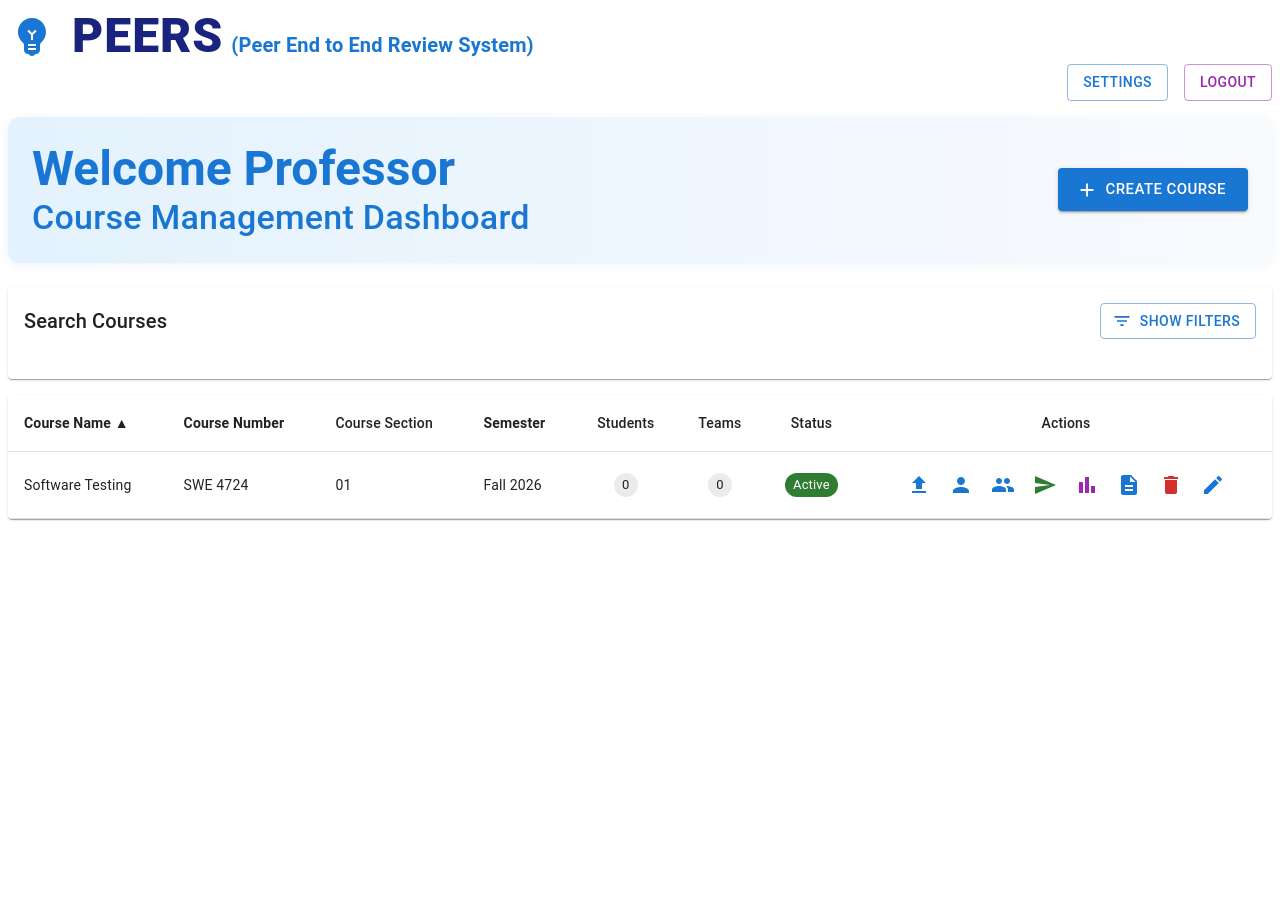
CourseManagement › cancels deletion without making a request, then deletes after confirmation
The image size is (1280, 900).
Click the button titled "Delete Course": {"x": 1171, "y": 485} [1154, 468, 1188, 502]
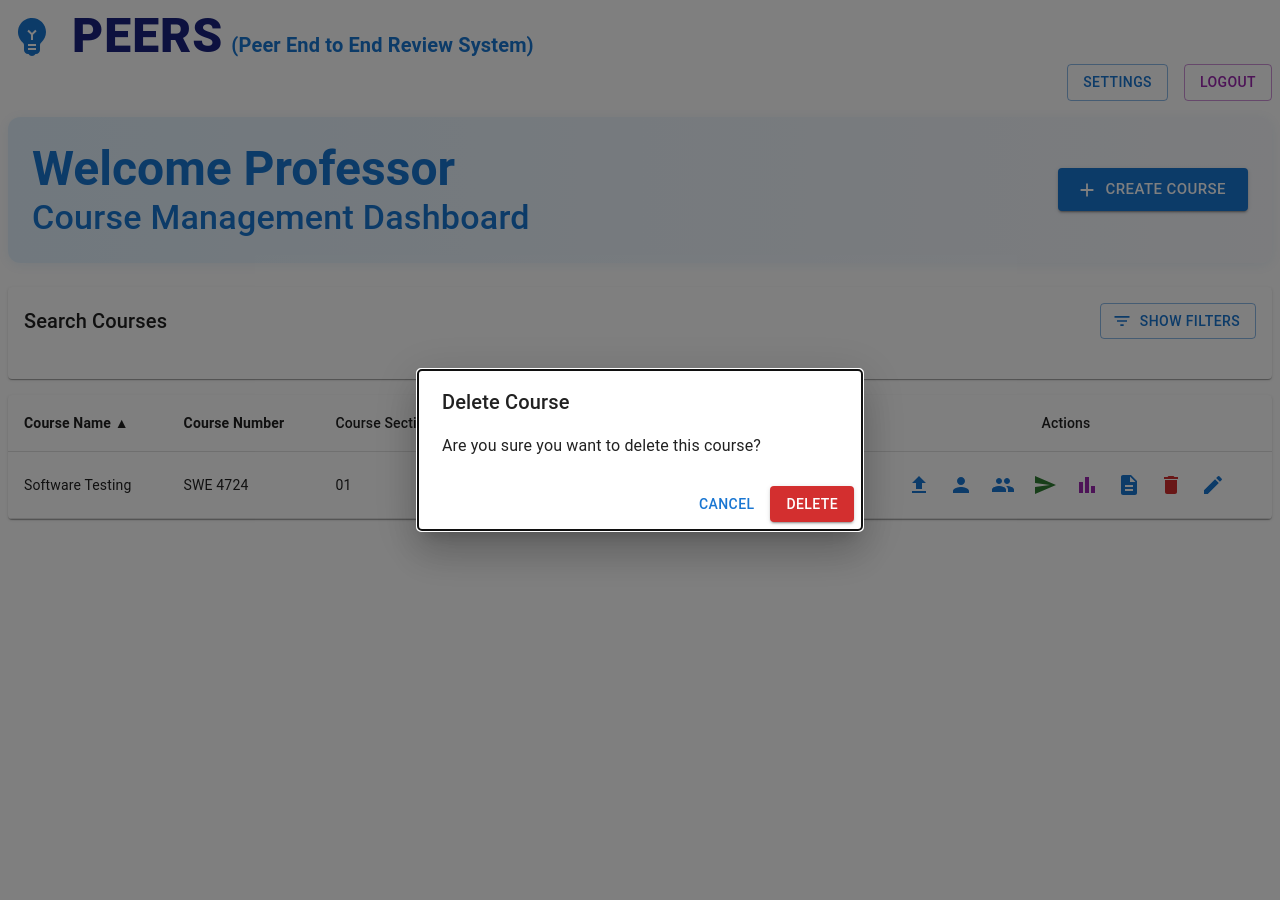
Click the button "Cancel": {"x": 727, "y": 504} [691, 486, 762, 522]
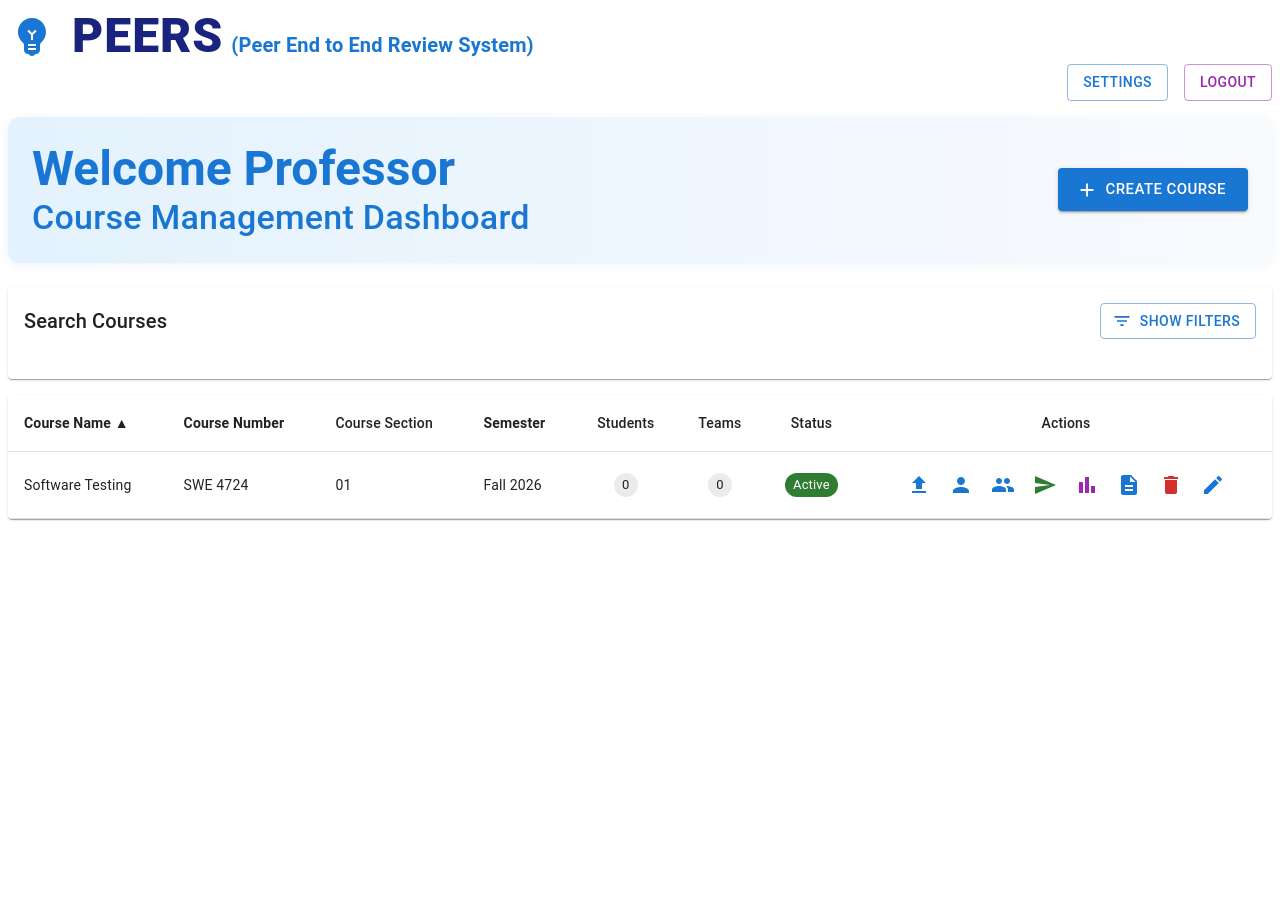
Expected: the dialog is gone
Click the button titled "Delete Course": {"x": 1171, "y": 485} [1154, 468, 1188, 502]
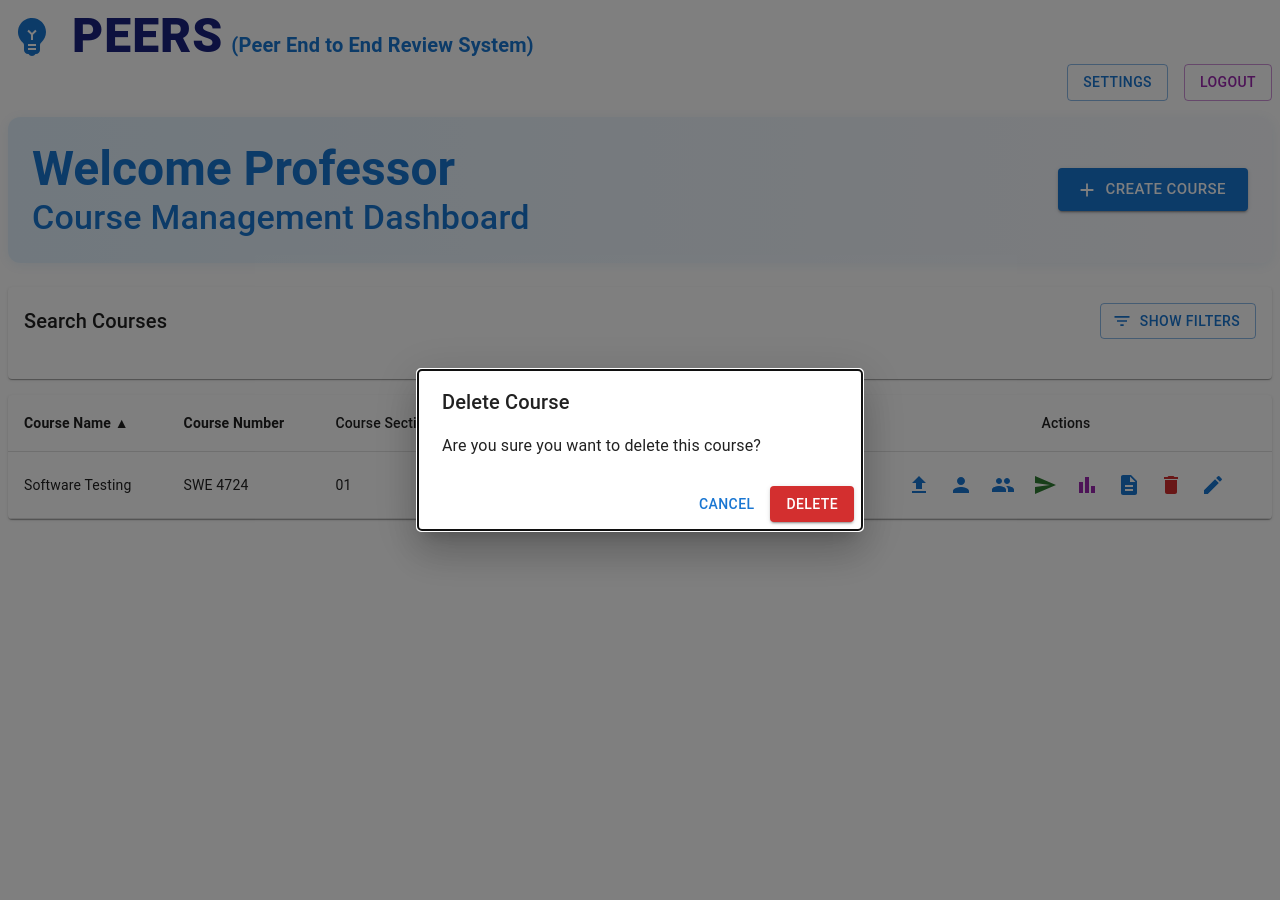
Click the button "Delete": {"x": 812, "y": 504} [770, 486, 854, 522]
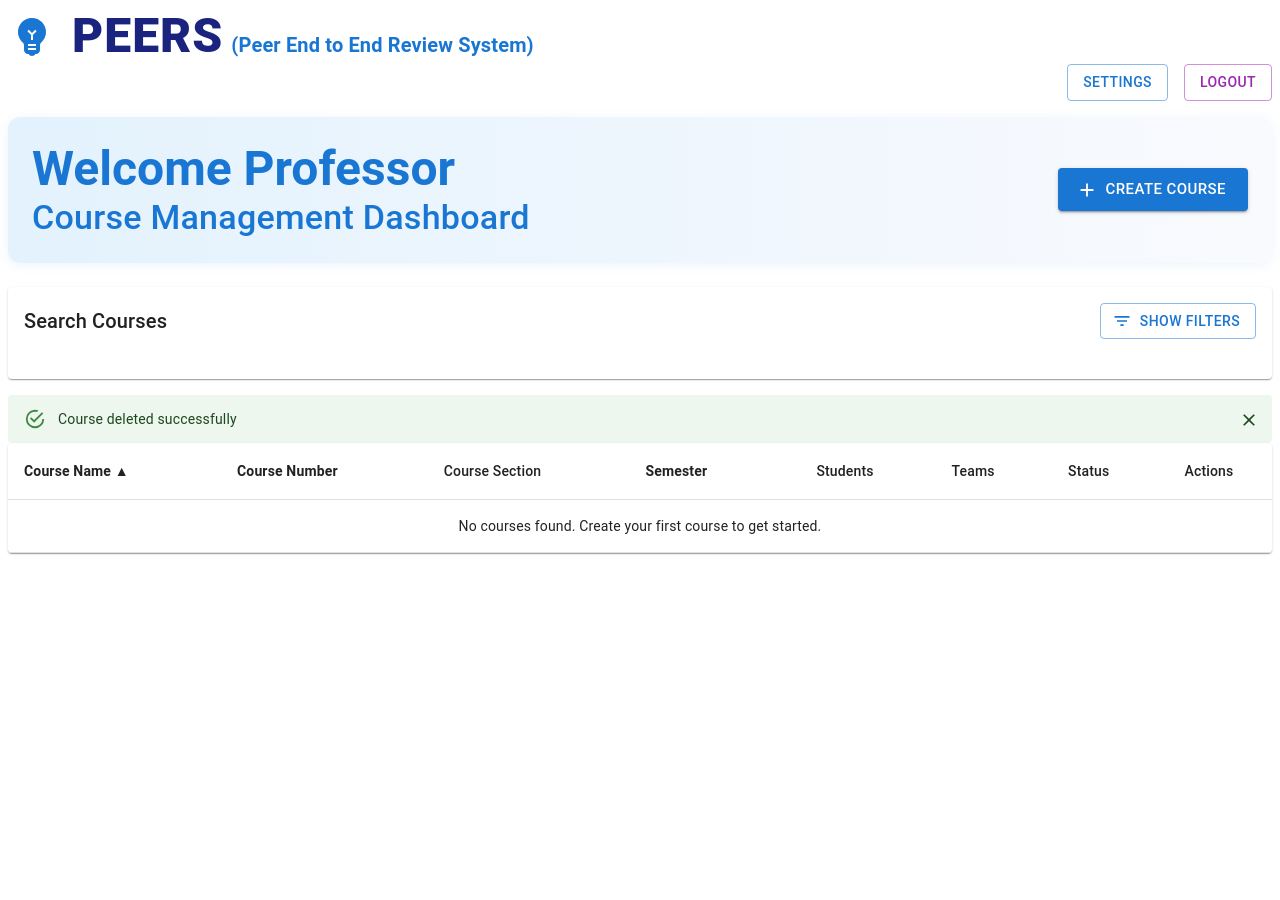
Expected: the text "No courses found. Create your first course to get started." is shown, [8, 500, 1272, 552]
